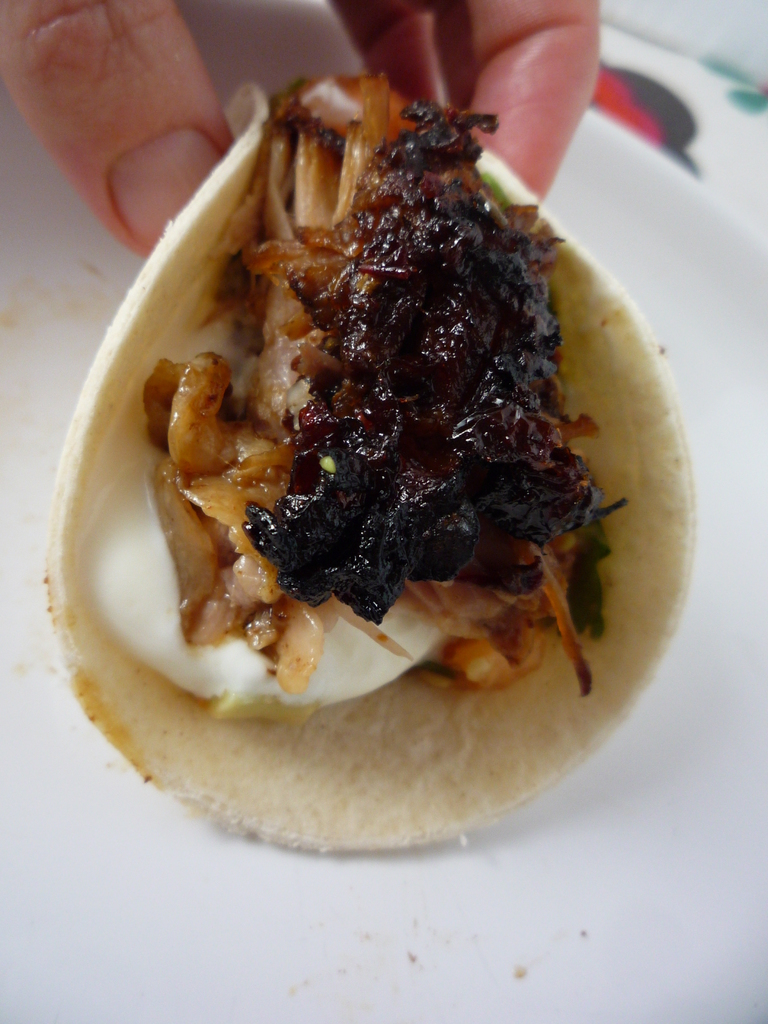taco: (37, 72, 697, 852)
